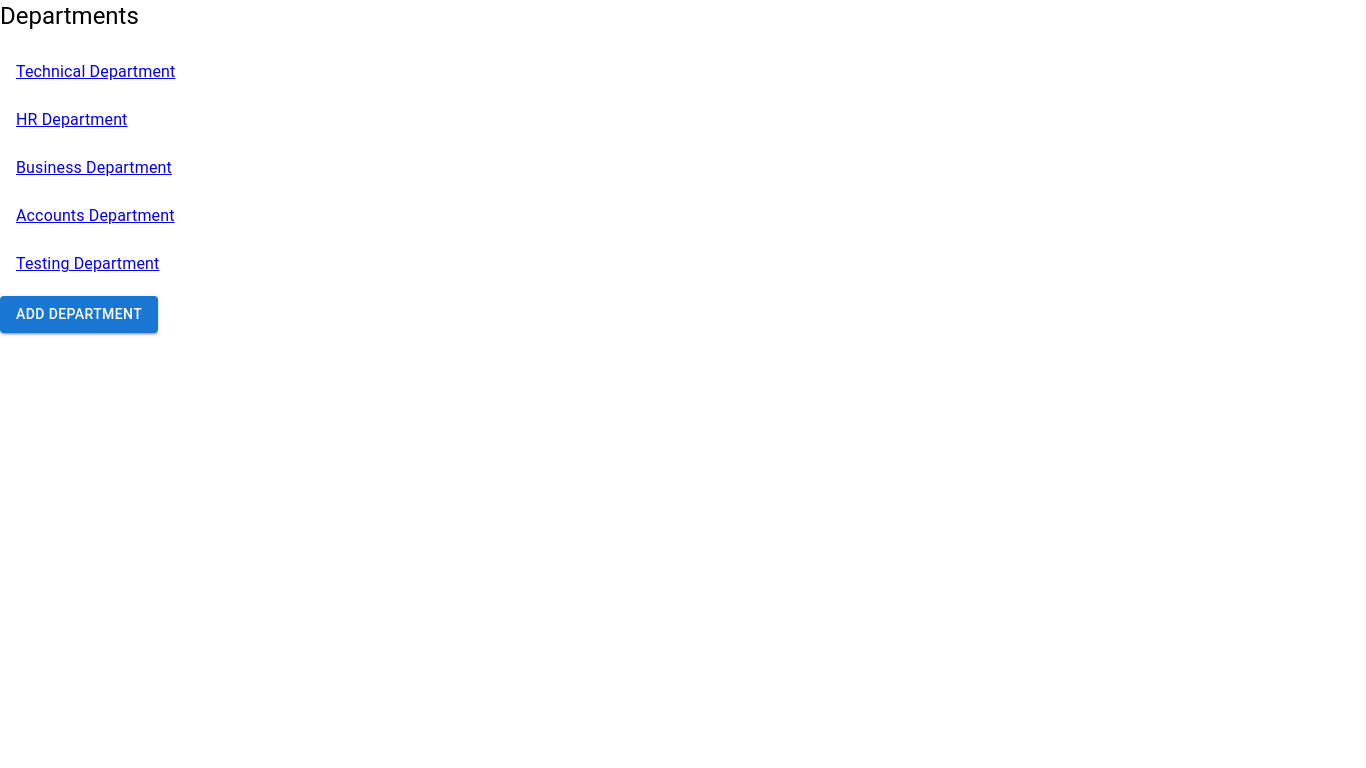
Department Management - Task › Adding an employee with missing name
Click the link "Technical Department" at (96, 72), box [16,62,175,81]
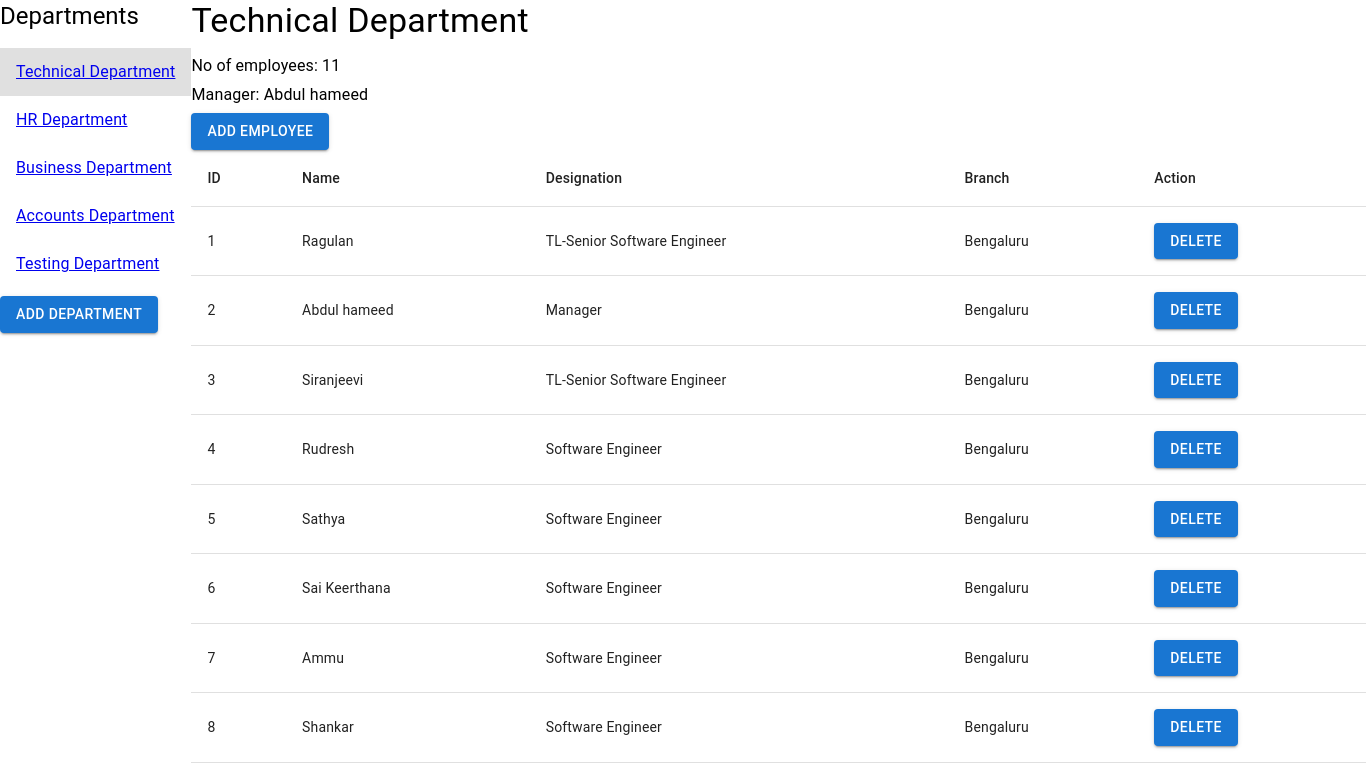
Click the button "Add Employee" at (260, 132), box [191,113,329,150]
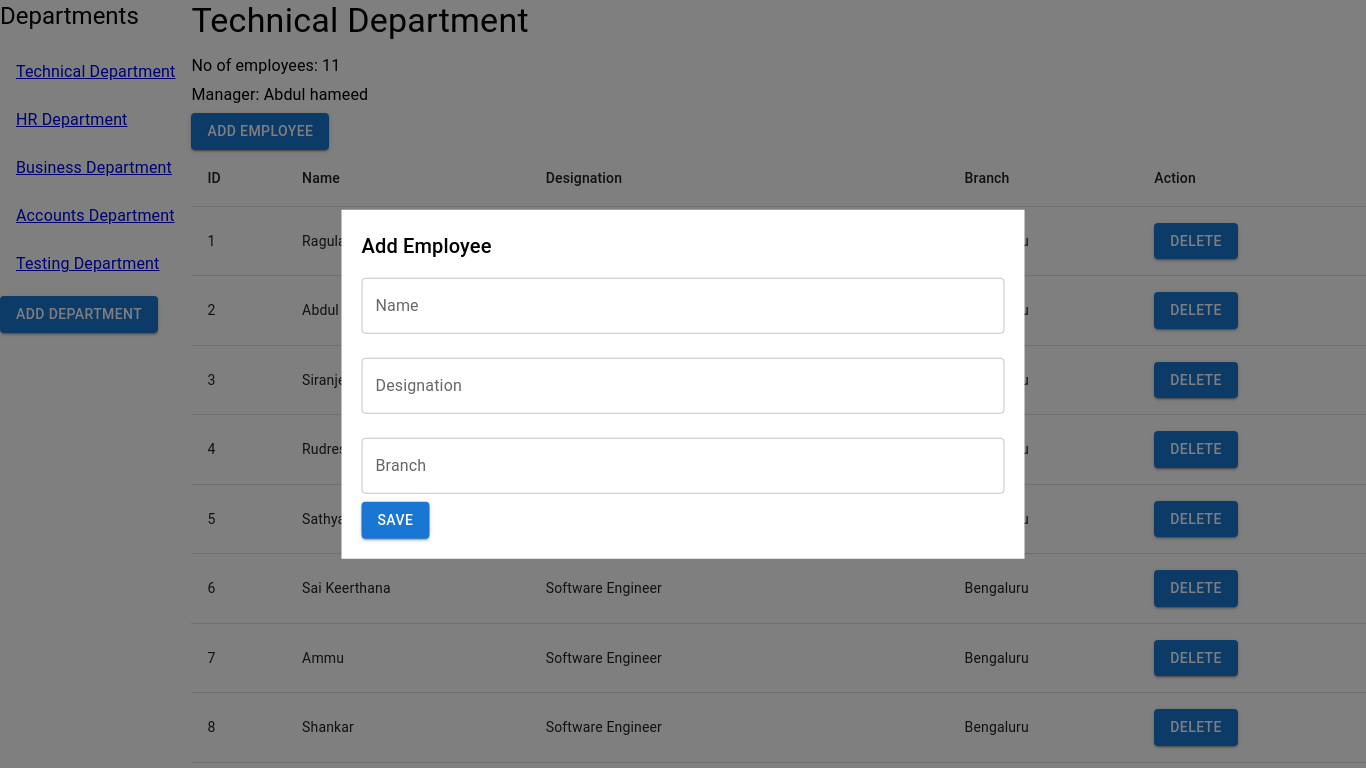
Expected: the field named "designation" is shown
Type "SDE" into the field named "designation" at (684, 386), box [362,358,1005,414]
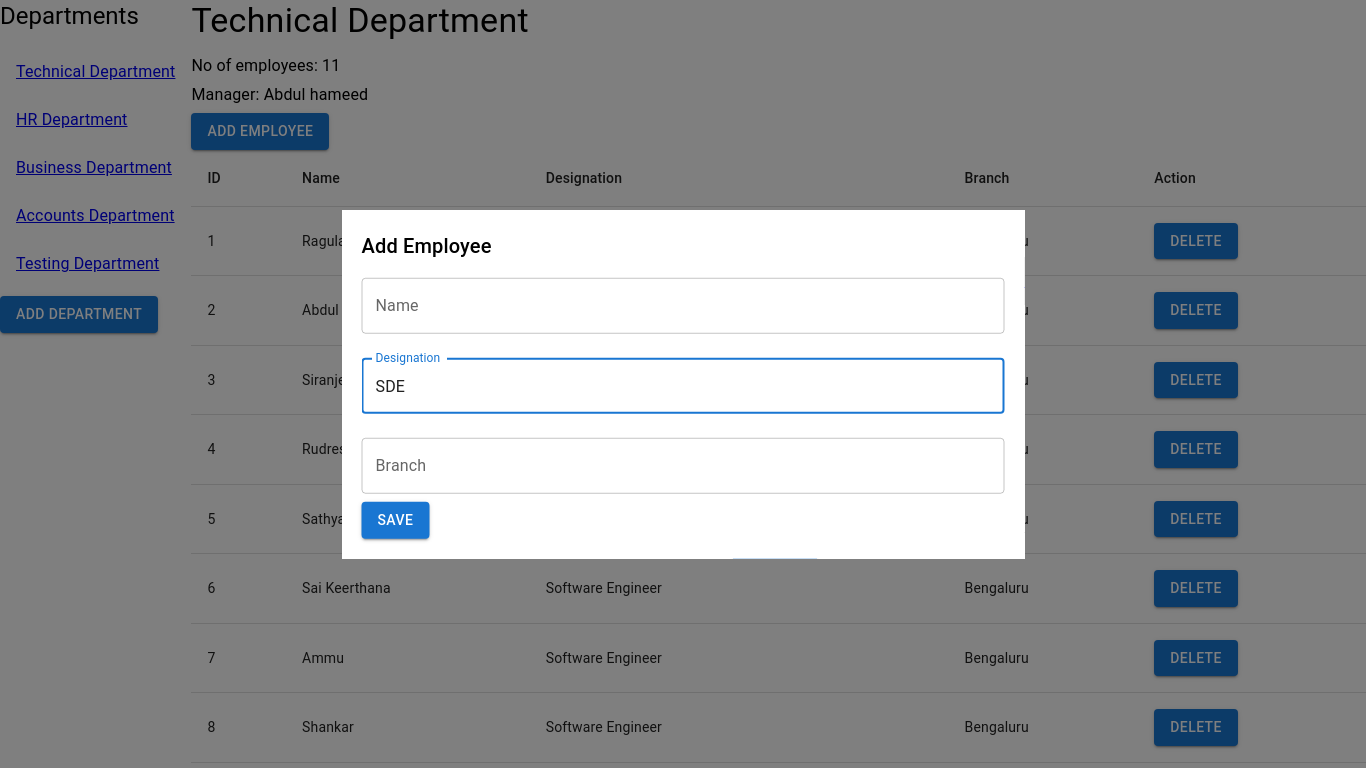
Expected: the field named "branch" is shown
Type "Bengaluru" into the field named "branch" at (684, 466), box [362,438,1005,494]
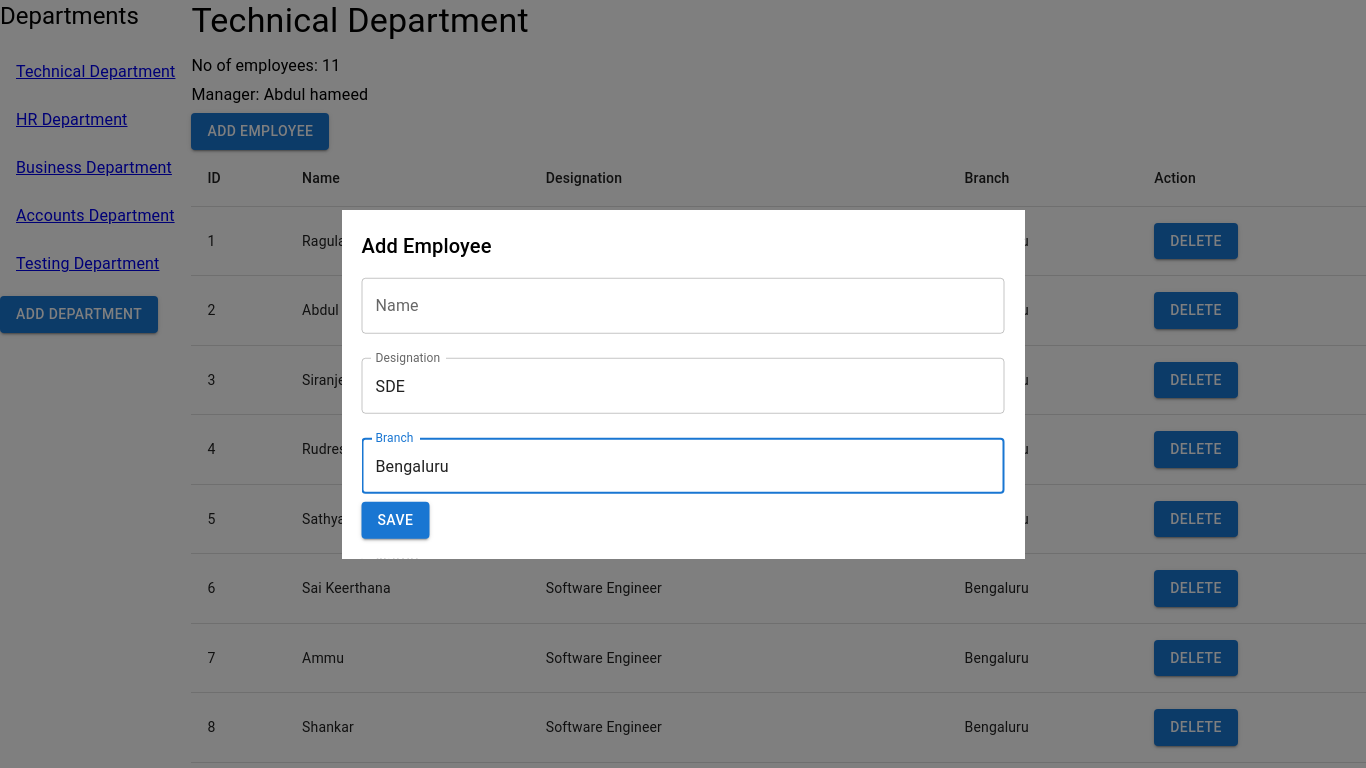
Click the button "Save" at (396, 521), box [362,502,430,539]
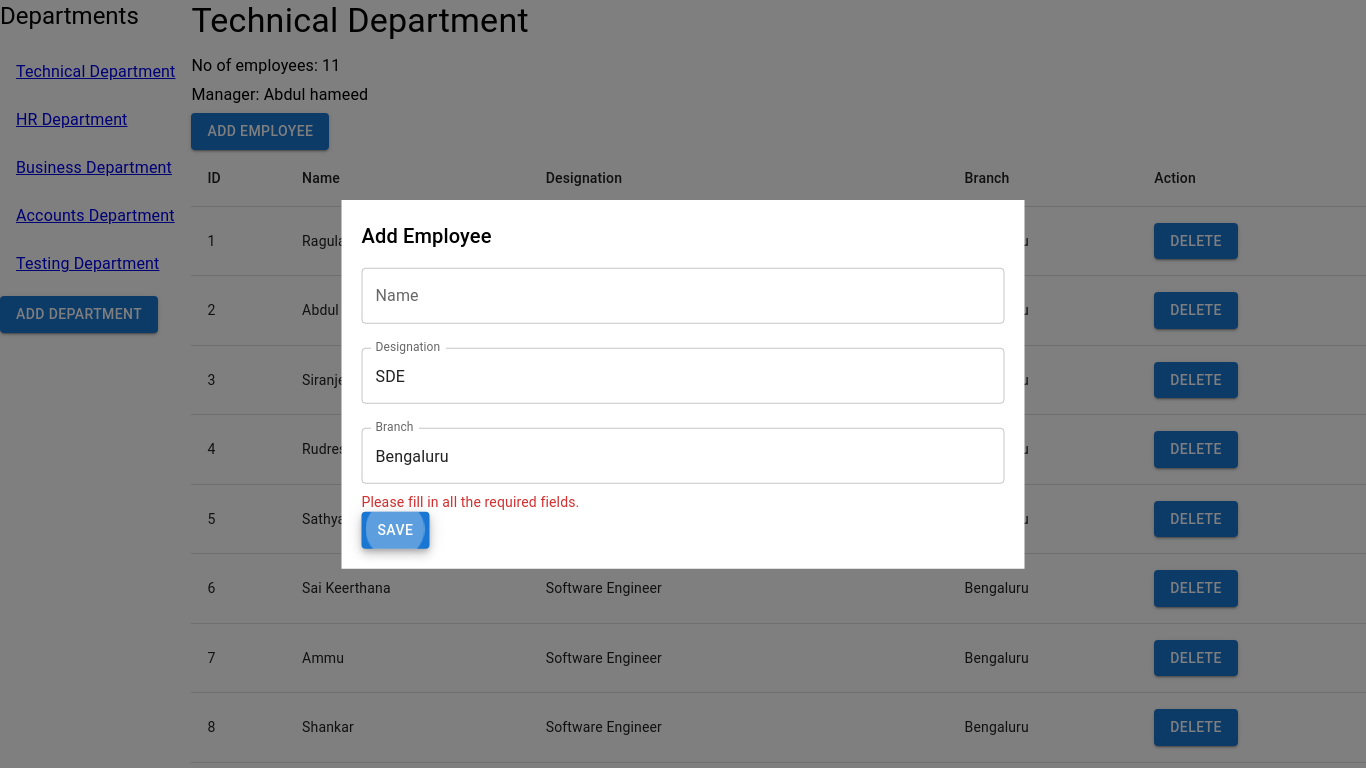
Expected: the text "Please fill in all the required fields." is shown, [362,494,579,510]
